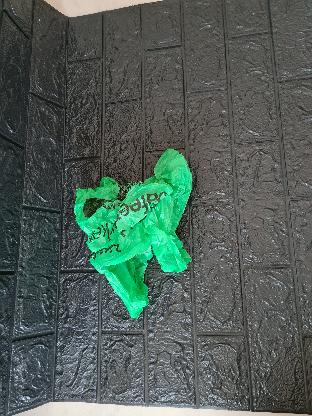Plastic Bag: (65, 145, 199, 320)
